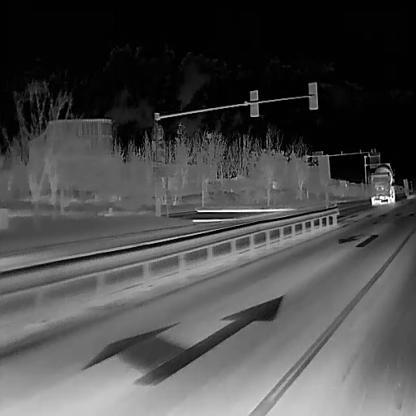car: (367, 161, 395, 205)
